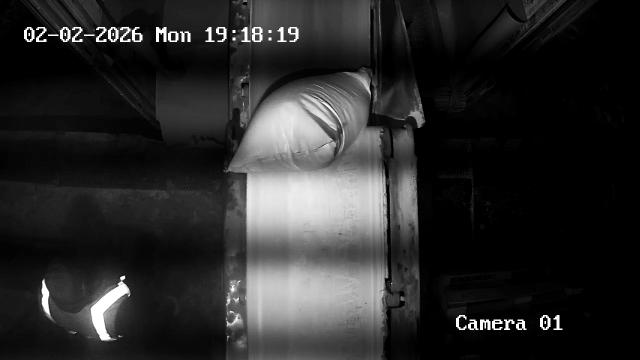bag: (227, 70, 372, 172)
